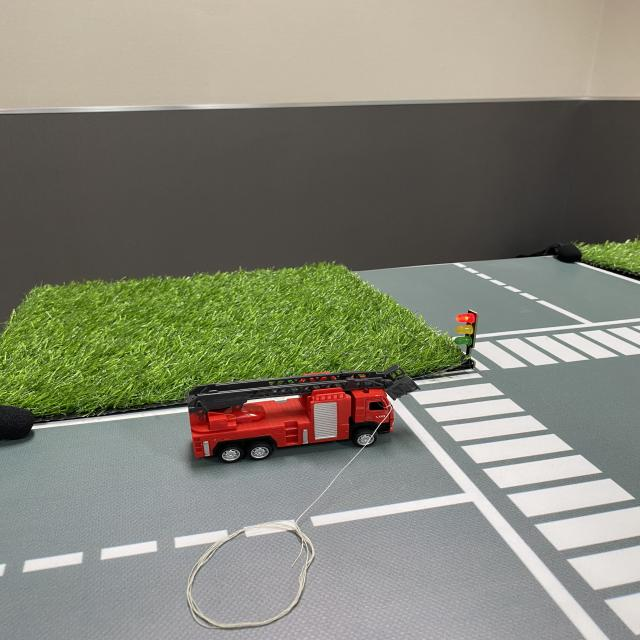Fire Truck: (182, 361, 425, 466)
